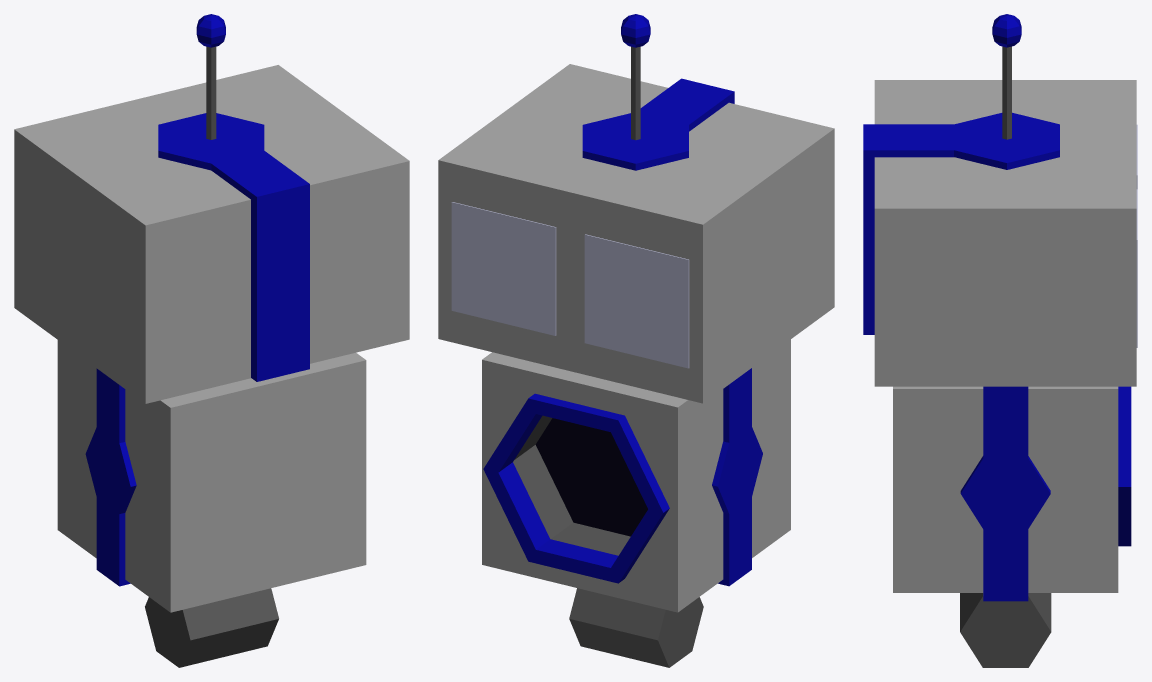
The model's file is blueStandardRobot.fbx.
3 renders of one model, left to right at view 1: azimuth 30°, elevation 25°; view 2: azimuth 150°, elevation 25°; view 3: azimuth 270°, elevation 25°, orthographic.
Parts seen in each view (by area): view 1: pCube2, polySurface2, pCylinder6, pCylinder8, pCylinder2, pasted__pCylinder7, pasted__pSphere1; view 2: pCube2, polySurface2, polySurface1, pCube5, pasted__pCube5, pCylinder6, pCylinder8, pCylinder2, pasted__pCylinder7, pasted__pSphere1; view 3: pCube2, polySurface2, pCylinder2, pCylinder6, pCylinder8, polySurface1, pasted__pCylinder7, pasted__pSphere1.
Part boxes in pixels (x1=…): pCube2: x1=14, y1=65, x2=409, y2=403; polySurface2: x1=57, y1=340, x2=366, y2=612; pCylinder6: x1=158, y1=113, x2=309, y2=381; pCylinder8: x1=145, y1=588, x2=278, y2=667; pCylinder2: x1=85, y1=368, x2=136, y2=586; pasted__pCylinder7: x1=206, y1=46, x2=216, y2=139; pasted__pSphere1: x1=196, y1=14, x2=225, y2=47; pCube2: x1=438, y1=64, x2=834, y2=403; polySurface2: x1=482, y1=339, x2=790, y2=612; polySurface1: x1=483, y1=393, x2=669, y2=583; pCube5: x1=584, y1=234, x2=689, y2=368; pasted__pCube5: x1=451, y1=202, x2=556, y2=335; pCylinder6: x1=582, y1=78, x2=734, y2=170; pCylinder8: x1=569, y1=588, x2=703, y2=667; pCylinder2: x1=712, y1=368, x2=762, y2=586; pasted__pCylinder7: x1=631, y1=46, x2=640, y2=140; pasted__pSphere1: x1=621, y1=14, x2=650, y2=47; pCube2: x1=874, y1=80, x2=1136, y2=386; polySurface2: x1=893, y1=386, x2=1118, y2=592; pCylinder2: x1=960, y1=386, x2=1050, y2=601; pCylinder6: x1=863, y1=112, x2=1059, y2=334; pCylinder8: x1=960, y1=593, x2=1051, y2=667; polySurface1: x1=1118, y1=386, x2=1131, y2=546; pasted__pCylinder7: x1=1002, y1=46, x2=1011, y2=139; pasted__pSphere1: x1=992, y1=14, x2=1021, y2=47.
Bounding box in the file's own units: 2.7 × 6.18 × 2.44.
